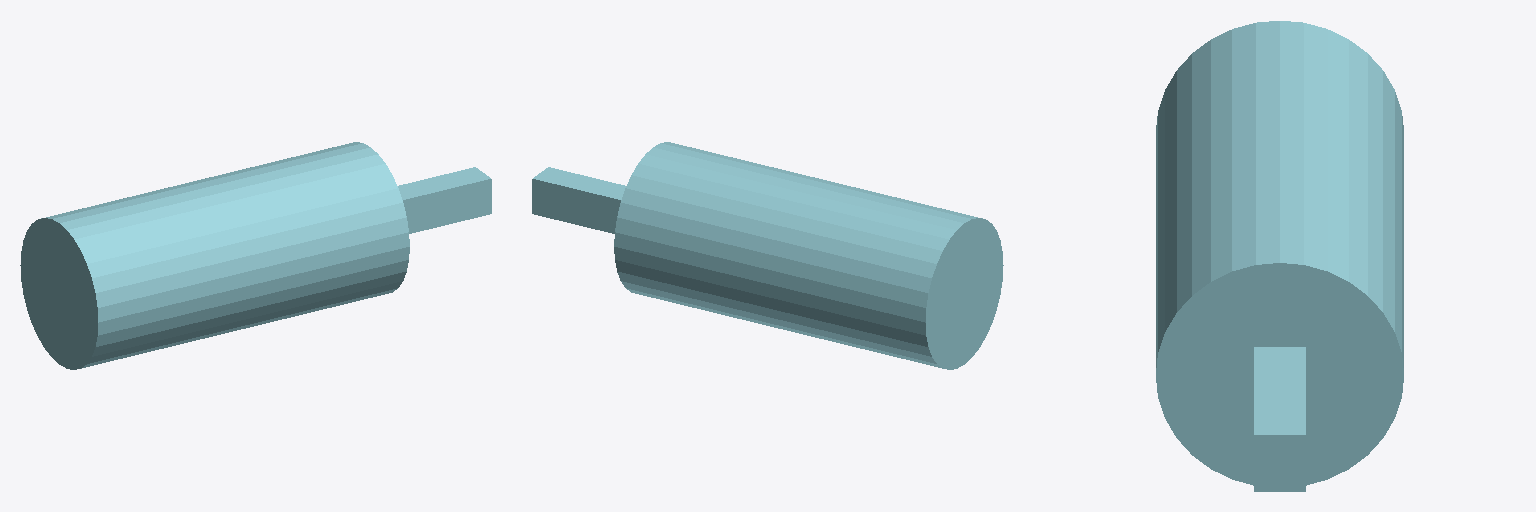
The robot description file, URDF, robot "cylinder_marker_v4016":
<?xml version="1.0"?>
<robot name="cylinder_marker_v4016">

  <link name="cylinder_marker_v4016">
    <!-- Handle -->
    <visual>
      <origin xyz="0 0 0" rpy="0 1.5707963267948966 0"/>
      <geometry>
        <cylinder length="0.08187907543681486" radius="0.017752998433204784"/>
      </geometry>
      <material name="material">
        <color rgba="0.639 0.847 0.882 1.0"/>
      </material>
    </visual>
    <collision>
      <origin xyz="0 0 0" rpy="0 1.5707963267948966 0"/>
      <geometry>
        <cylinder length="0.08187907543681486" radius="0.017752998433204784"/>
      </geometry>
    </collision>

    <!-- Head -->
    <visual>
      <origin xyz="0.05573980951394936 0 0" rpy="0 0 0"/>
      <geometry>
        <box size="0.02960054359108385 0.00729280321229245 0.00892040474170704"/>
      </geometry>
      <material name="material">
        <color rgba="0.639 0.847 0.882 1.0"/>
      </material>
    </visual>
    <collision>
      <origin xyz="0.05573980951394936 0 0" rpy="0 0 0"/>
      <geometry>
        <box size="0.02960054359108385 0.00729280321229245 0.00892040474170704"/>
      </geometry>
    </collision>

    <inertial>
      <density value="400.0"/>
    </inertial>
  </link>

</robot>

--- Facts derived from the render (not from the file) ---
The picture shows the robot from 3 angles, left to right: view 1: azimuth 30°, elevation 25°; view 2: azimuth 150°, elevation 25°; view 3: azimuth 270°, elevation 25°; orthographic projection.
Model cylinder_marker_v4016 with 1 links and 0 joints (none), rooted at cylinder_marker_v4016, posed all joints at 0.
Links seen in each view (by area): view 1: cylinder_marker_v4016; view 2: cylinder_marker_v4016; view 3: cylinder_marker_v4016.
Boxes of the visible links, box(x1,y1,x2,y2) form: cylinder_marker_v4016: box(20, 142, 491, 369); cylinder_marker_v4016: box(532, 142, 1003, 369); cylinder_marker_v4016: box(1156, 21, 1403, 491).
Bounding box of the posed robot: 0.1115 × 0.0355 × 0.0355 m (x, y, z).
Geometry: primitives only (box / cylinder / sphere), no mesh files.
